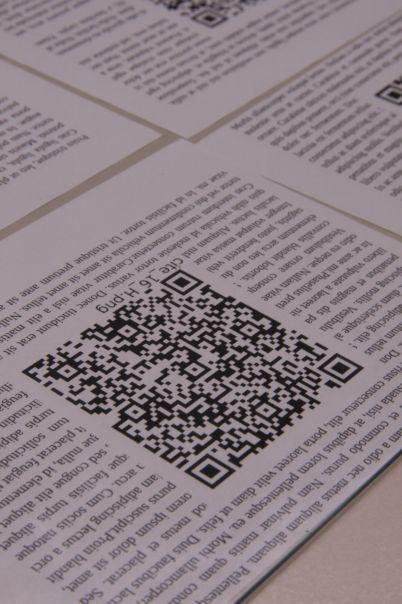Finder pattern: (313, 348, 361, 384), (181, 453, 235, 485), (159, 266, 203, 296), (191, 6, 229, 31), (375, 82, 401, 108)
